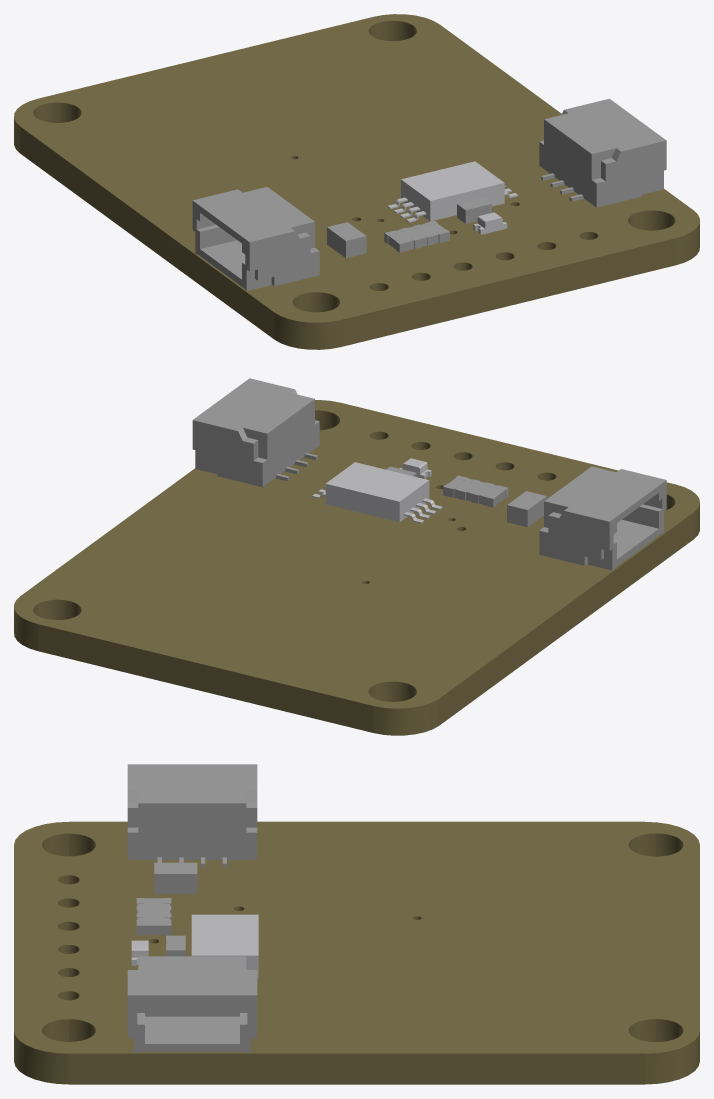
Rendered from ada-4701.glb.
3 views of the same model, one above another, from view 1: azimuth 30°, elevation 25°; view 2: azimuth 150°, elevation 25°; view 3: azimuth 270°, elevation 25° (orthographic). The views are drawn at different scales.
Parts seen in each view (by area): view 1: 0.16666666666666666_0.16666666666666666_0.08333333333333333_, 0.3333333333333333_0.3333333333333333_0.3333333333333333_0, 0.5833333333333334_0.5833333333333334_0.5833333333333334_0.8; view 2: 0.16666666666666666_0.16666666666666666_0.08333333333333333_, 0.3333333333333333_0.3333333333333333_0.3333333333333333_0, 0.5833333333333334_0.5833333333333334_0.5833333333333334_0.8; view 3: 0.16666666666666666_0.16666666666666666_0.08333333333333333_, 0.3333333333333333_0.3333333333333333_0.3333333333333333_0, 0.5833333333333334_0.5833333333333334_0.5833333333333334_0.8.
Boxes of the visible parts, x1,y1,x2,y2 form: 0.16666666666666666_0.16666666666666666_0.08333333333333333_: (14,14,699,349); 0.3333333333333333_0.3333333333333333_0.3333333333333333_0: (192,98,666,290); 0.5833333333333334_0.5833333333333334_0.5833333333333334_0.8: (387,161,517,234); 0.16666666666666666_0.16666666666666666_0.08333333333333333_: (14,400,699,735); 0.3333333333333333_0.3333333333333333_0.3333333333333333_0: (192,378,666,570); 0.5833333333333334_0.5833333333333334_0.5833333333333334_0.8: (312,458,442,523); 0.16666666666666666_0.16666666666666666_0.08333333333333333_: (14,821,699,1084); 0.3333333333333333_0.3333333333333333_0.3333333333333333_0: (127,764,257,1052); 0.5833333333333334_0.5833333333333334_0.5833333333333334_0.8: (131,914,258,979).
Bounding box in the file's own units: 2.54 × 0.4529 × 3.17.
